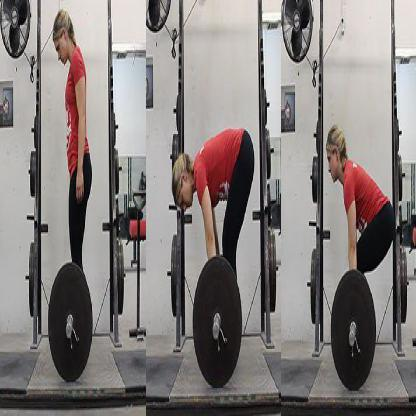Barbell: (187, 248, 246, 396), (328, 261, 380, 400), (44, 255, 97, 387)
